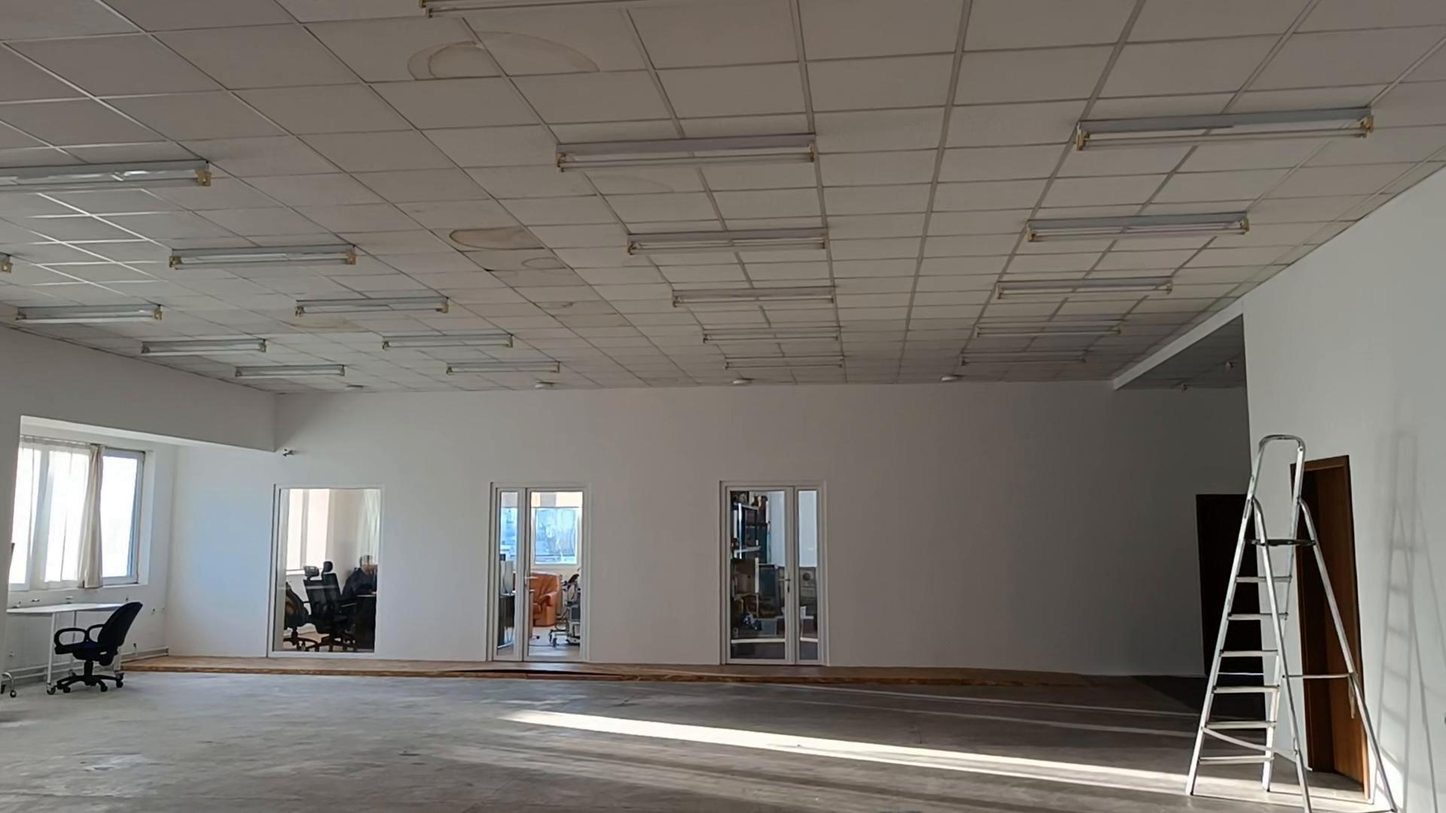ceiling: (0, 0, 1445, 389)
floor: (0, 659, 1298, 812)
wall: (171, 389, 1259, 672), (1111, 172, 1445, 812), (3, 336, 276, 652)
